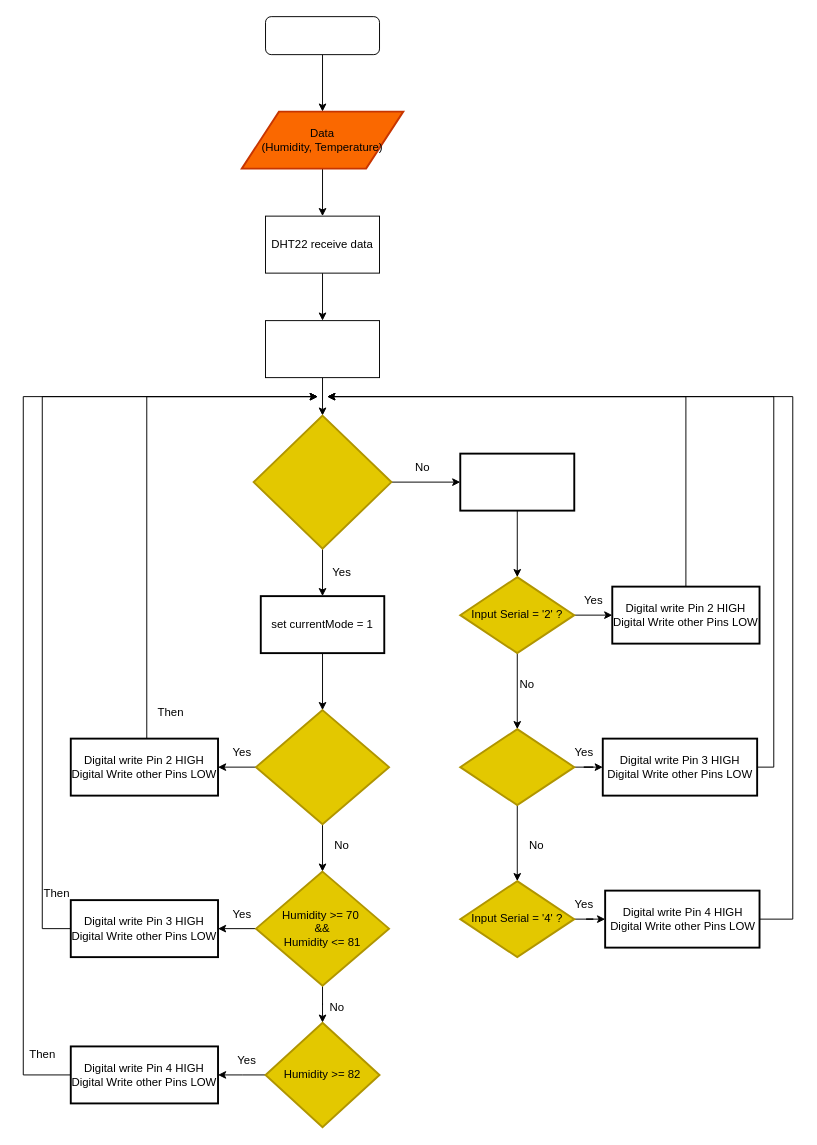
This 817x1145 diagram has some shape labels left out. Each missing label, with the box of its shape:
Humidity >= 0 && Humidity <= 69: (255, 709, 390, 825)
Input Serial = '3' ?: (459, 728, 575, 806)
Input Serial = 1' ? and currentMode != 1 ?: (252, 414, 392, 549)
Send data to Arduino board: (265, 320, 380, 378)
set currentMode = 2: (459, 452, 575, 511)
Start: (265, 16, 380, 55)
